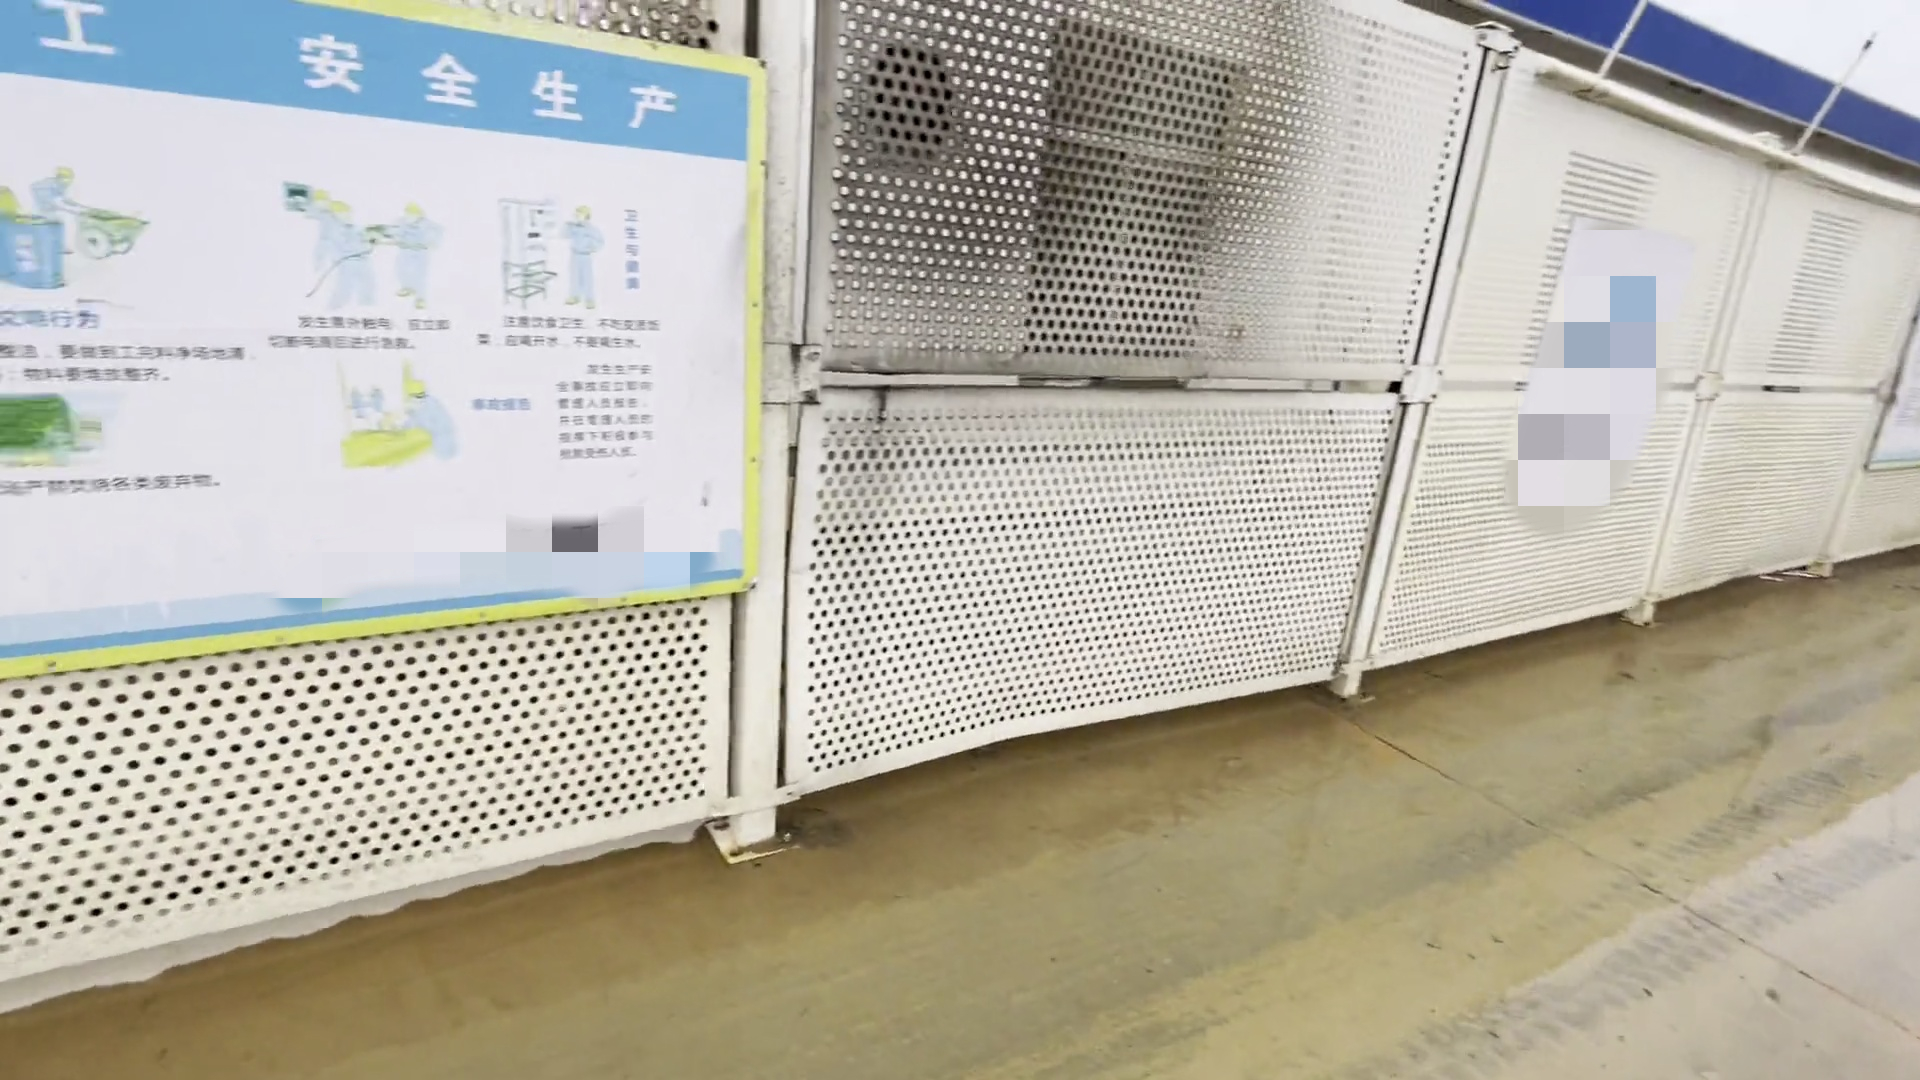slogan: (1, 18, 758, 615)
